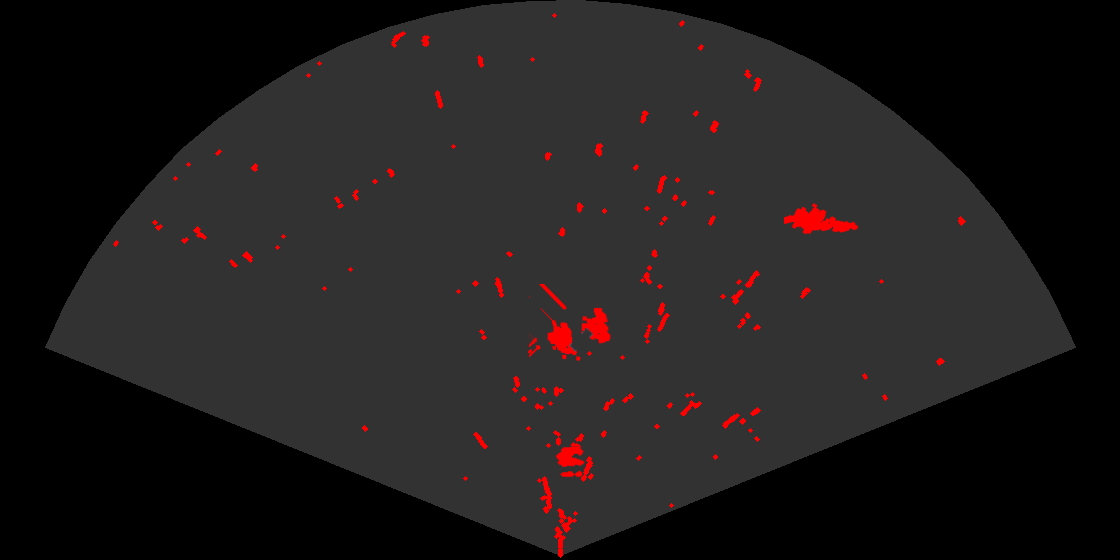ball: (555, 446, 586, 478)
cage: (529, 284, 612, 362)
frogman: (784, 202, 860, 236)
